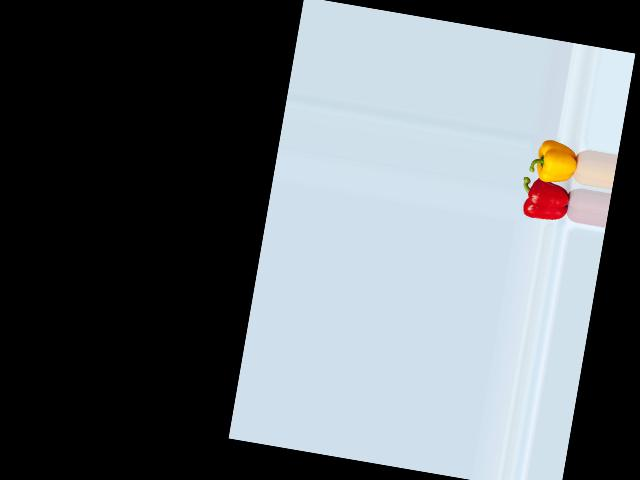bell_pepper: (518, 175, 577, 228)
